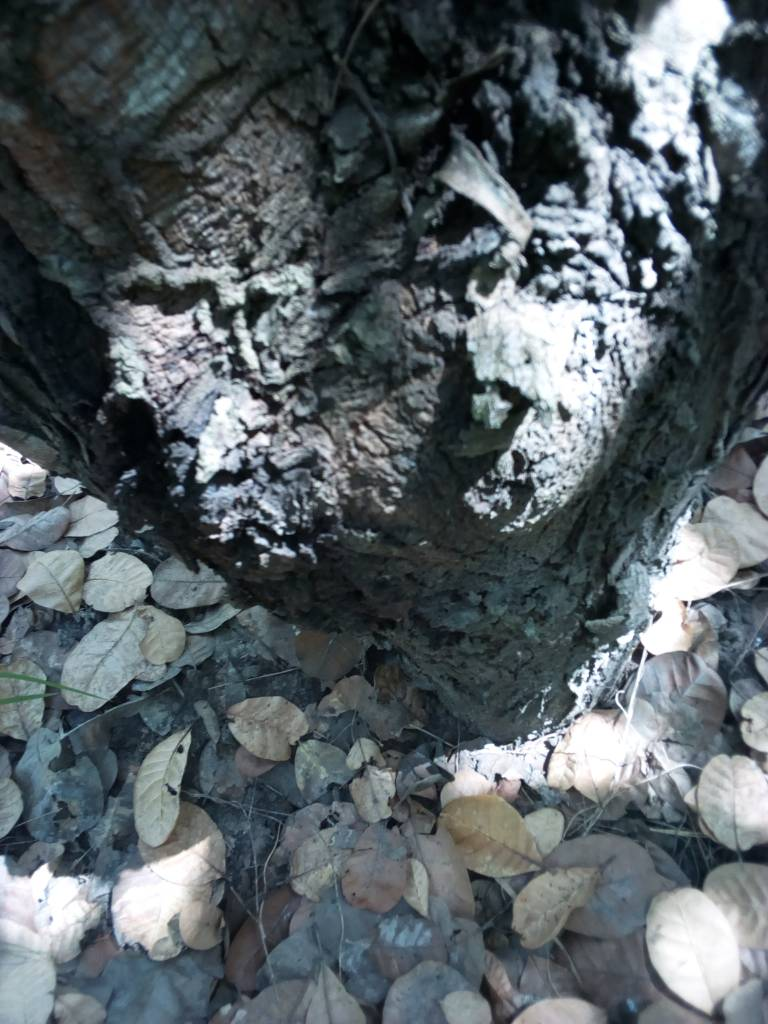Termites: (58, 64, 290, 363)
